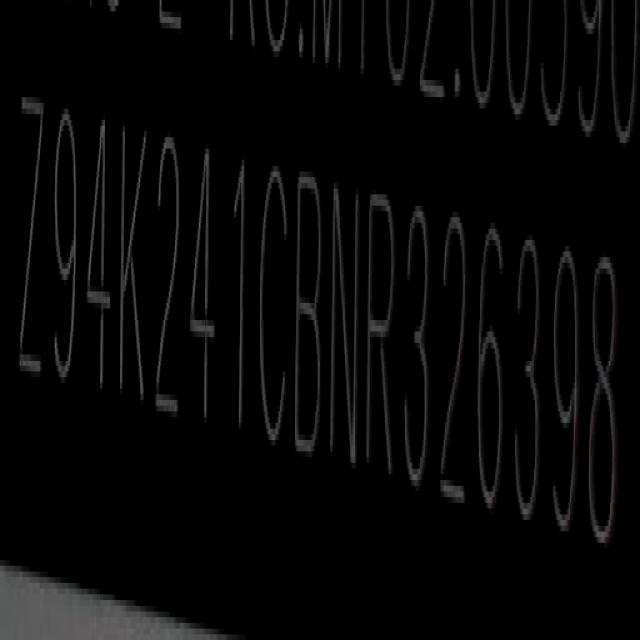1: (229, 151, 250, 445)
2: (441, 208, 471, 509), (154, 124, 183, 427)
3: (515, 232, 546, 532), (405, 201, 434, 495)
4: (192, 132, 220, 434), (86, 106, 114, 400)
6: (476, 217, 504, 520)
8: (592, 256, 622, 556)
9: (550, 238, 580, 540), (50, 99, 77, 398)
B: (297, 165, 328, 465)
C: (256, 156, 290, 453)
K: (118, 116, 150, 411)
N: (328, 171, 361, 471)
R: (368, 183, 399, 482)
Z: (19, 89, 46, 388)
